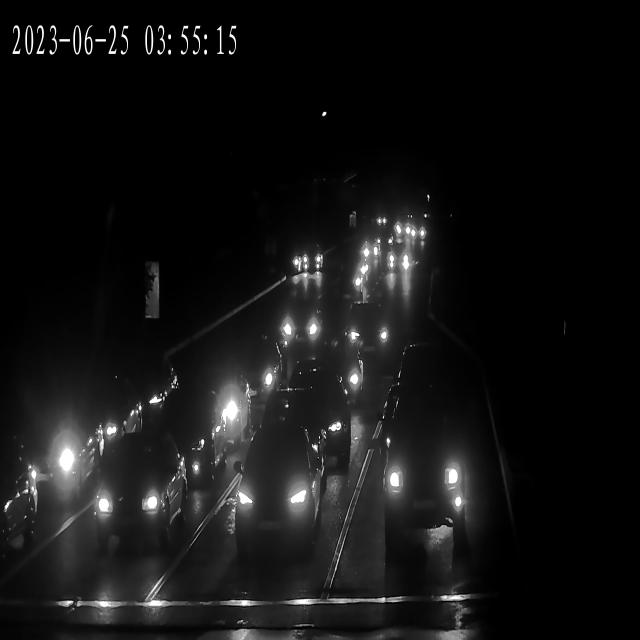Car: (0, 386, 102, 515), (232, 434, 322, 560), (92, 437, 185, 558), (378, 415, 471, 528), (94, 360, 180, 436), (274, 383, 351, 466), (195, 368, 257, 453), (162, 406, 226, 488), (0, 442, 39, 566), (211, 343, 283, 399), (344, 311, 394, 356), (276, 308, 322, 351), (384, 250, 411, 274), (388, 253, 413, 276), (358, 242, 383, 262), (288, 271, 312, 287), (299, 266, 321, 283), (383, 233, 406, 248), (406, 225, 427, 241), (406, 228, 426, 244), (303, 262, 323, 278), (304, 254, 324, 269), (302, 260, 322, 275), (374, 214, 390, 227), (391, 220, 407, 233), (290, 253, 306, 266)
